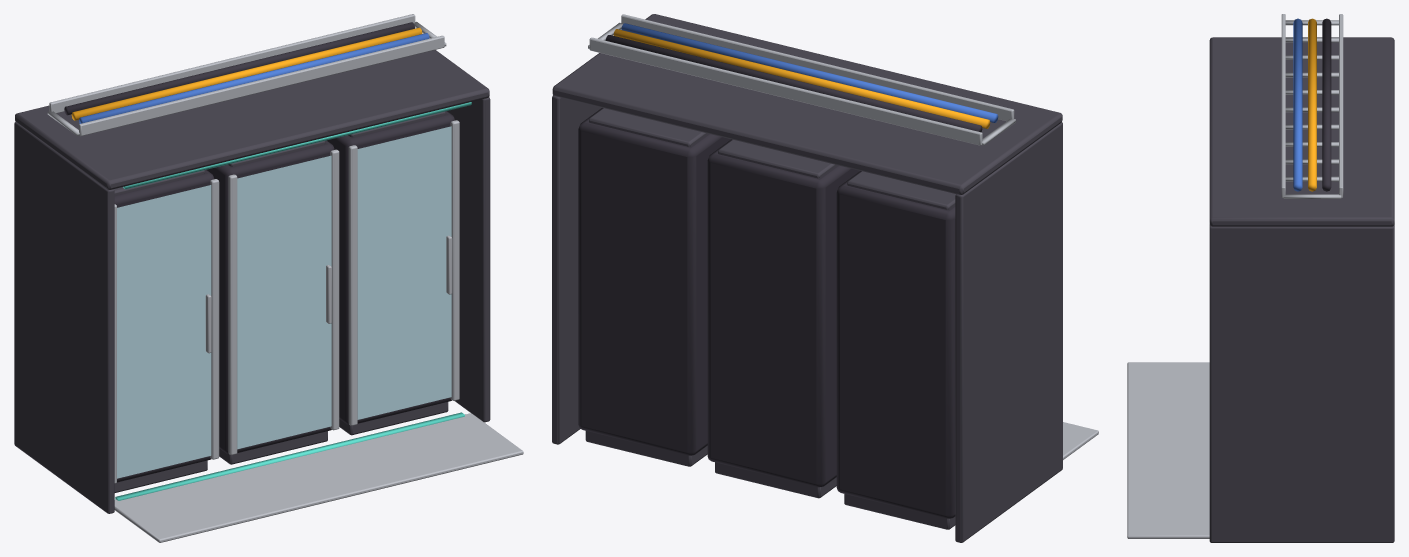
The model's file is server_rack_l3.glb.
3 views of the same model, side by side, from view 1: azimuth 30°, elevation 25°; view 2: azimuth 150°, elevation 25°; view 3: azimuth 270°, elevation 25° (orthographic). The views are drawn at different scales.
Visible parts, largest first — view 1: server_rack_l3, r2_glass, r1_glass, r0_glass, server_rack_aisle_glow, server_rack_roof_glow; view 2: server_rack_l3; view 3: server_rack_l3.
Part boxes in pixels (x1,y1,x2,y2): server_rack_l3: (14, 14, 523, 542); r2_glass: (357, 126, 451, 419); r1_glass: (237, 155, 331, 449); r0_glass: (117, 185, 211, 478); server_rack_aisle_glow: (115, 412, 464, 500); server_rack_roof_glow: (123, 102, 471, 189); server_rack_l3: (552, 14, 1098, 542); server_rack_l3: (1127, 14, 1394, 542).
Bounding box in the file's own units: 2.1 × 1.89 × 1.3.
